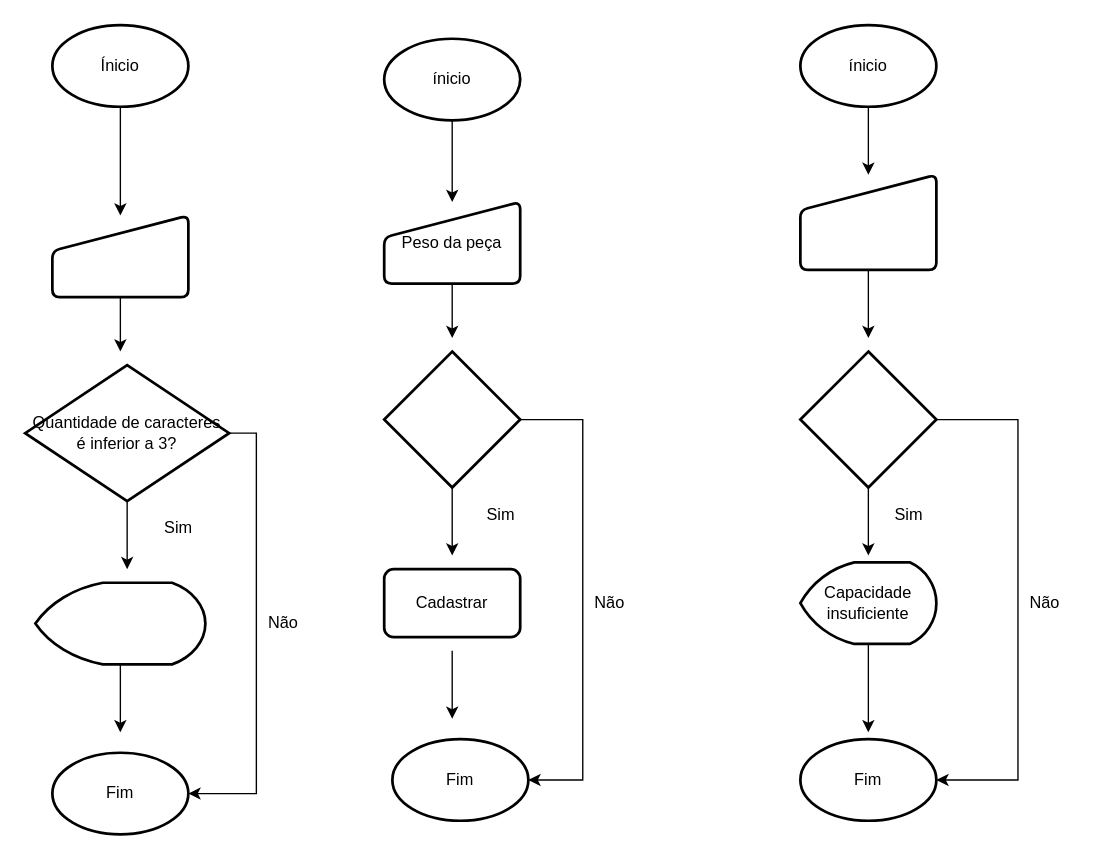
Some shapes in this 1095 by 858 pixel diagram are drawn without their labels. The shapes that lost their labels are listed below. From the top down, each one's centre as x and y in pixels, then its label:
At point (867, 222): "Quantidade de peças".
At point (119, 256): "Nome da peça".
At point (451, 419): "Peso é superior a 100 gramas?".
At point (867, 419): "Quantidade é maior que 10?".
At point (119, 623): "Mensagem de erro!".
